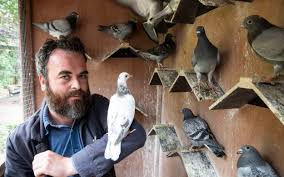Flying Rat: (239, 13, 284, 86), (105, 69, 138, 161), (181, 23, 223, 95), (176, 106, 224, 156), (95, 13, 141, 46), (236, 143, 279, 177), (32, 13, 89, 38), (142, 33, 177, 69)
